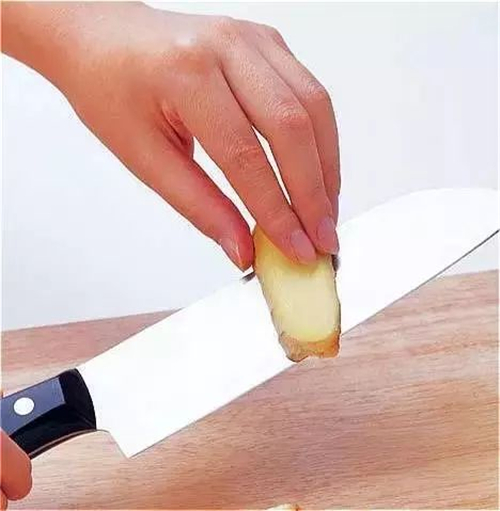knief: (27, 174, 500, 464)
